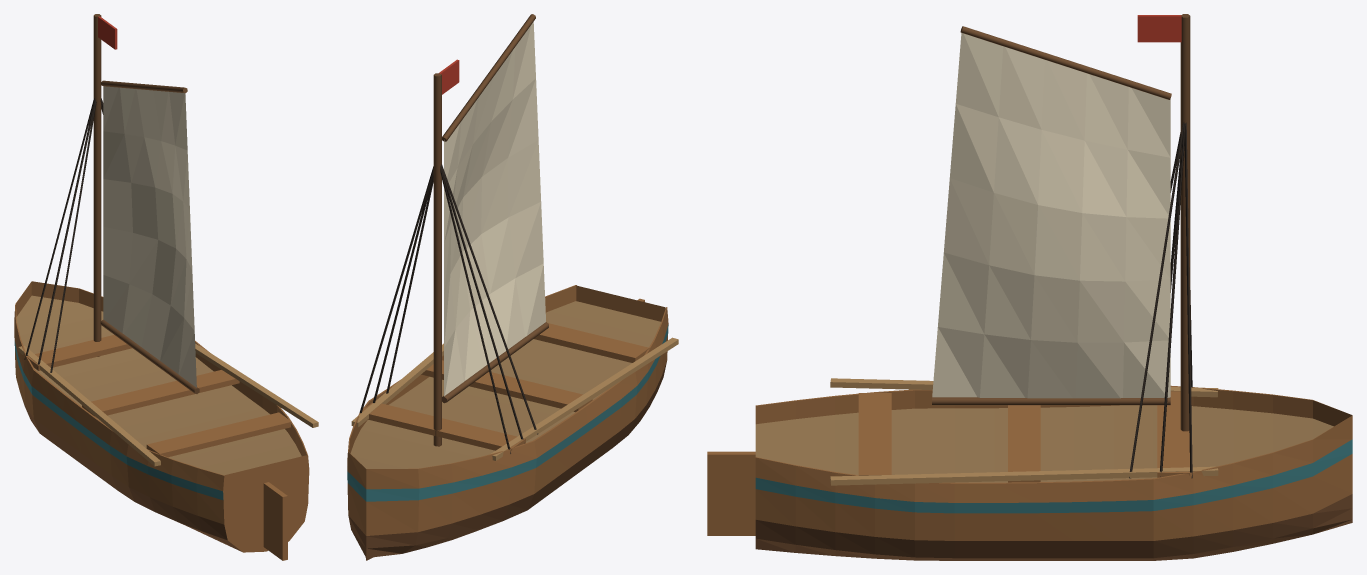
The model's file is sawyer_ship_dinghy_set.glb.
3 views of the same model, side by side, from view 1: azimuth 30°, elevation 25°; view 2: azimuth 150°, elevation 25°; view 3: azimuth 270°, elevation 25° (orthographic). The views are drawn at different scales.
Parts seen in each view (by area): view 1: hull, sail_main0, mast0, thwart2, thwart1, rudder, thwart0, oar_l, oar_r, boom0, shroud0_-1_0, shroud0_-1_1 (+3 smaller); view 2: hull, sail_main0, mast0, thwart0, thwart2, thwart1, oar_l, gaff0, oar_r, boom0, shroud0_-1_-1, shroud0_-1_0 (+5 smaller); view 3: hull, sail_main0, rudder, mast0, oar_r, thwart2, thwart1, thwart0, boom0, gaff0, oar_l, flag0 (+3 smaller).
Boxes of the visible parts, x1,y1,x2,y2 form: hull: (14, 281, 309, 552); sail_main0: (103, 86, 196, 387); mast0: (93, 14, 101, 356); thwart2: (146, 412, 291, 457); thwart1: (82, 370, 239, 417); rudder: (263, 482, 287, 560); thwart0: (25, 335, 132, 370); oar_l: (18, 345, 160, 466); oar_r: (195, 343, 318, 427); boom0: (100, 319, 199, 393); shroud0_-1_0: (37, 98, 94, 368); shroud0_-1_1: (49, 99, 96, 377); hull: (347, 285, 668, 560); sail_main0: (444, 22, 545, 396); mast0: (433, 73, 441, 446); thwart0: (362, 402, 525, 450); thwart2: (534, 323, 649, 362); thwart1: (421, 360, 592, 412); oar_l: (491, 337, 678, 460); gaff0: (442, 14, 535, 141); oar_r: (351, 343, 443, 427); boom0: (442, 322, 548, 403); shroud0_-1_-1: (440, 166, 510, 453); shroud0_-1_0: (441, 164, 524, 443); hull: (755, 385, 1352, 560); sail_main0: (932, 33, 1170, 398); rudder: (707, 451, 755, 535); mast0: (1180, 14, 1190, 431); oar_r: (830, 466, 1218, 485); thwart2: (858, 393, 891, 475); thwart1: (1008, 405, 1040, 482); thwart0: (1157, 386, 1189, 477); boom0: (932, 397, 1170, 405); gaff0: (960, 26, 1171, 99); oar_l: (830, 378, 1218, 397); flag0: (1137, 15, 1181, 42).
Bounding box in the file's own units: 1.62 × 3.88 × 4.32.
